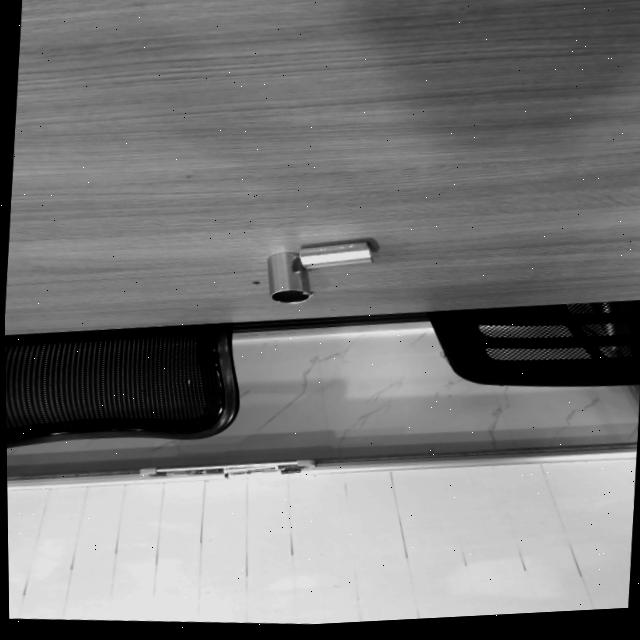Co_Lon: (264, 249, 313, 305)
Co_Nho: (296, 239, 375, 270)
